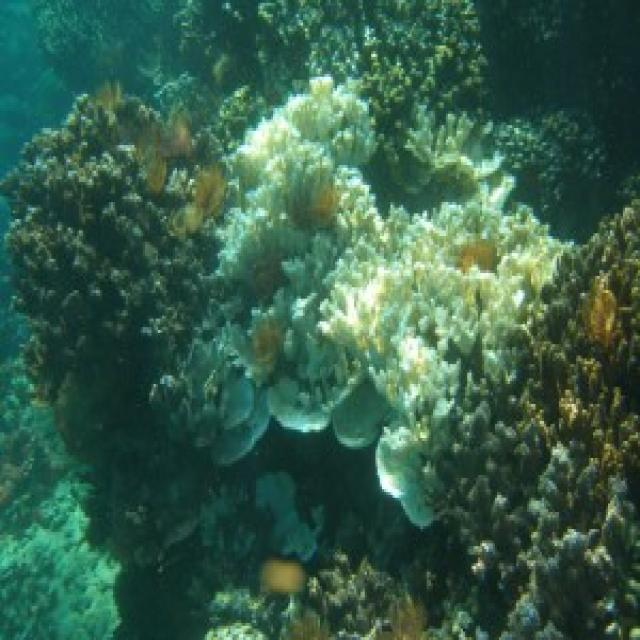Bleached: (321, 189, 556, 413), (216, 146, 381, 428), (231, 78, 376, 189), (379, 419, 436, 527), (212, 376, 270, 465), (332, 374, 391, 448)
Healthy: (7, 98, 216, 578), (423, 200, 639, 638)
